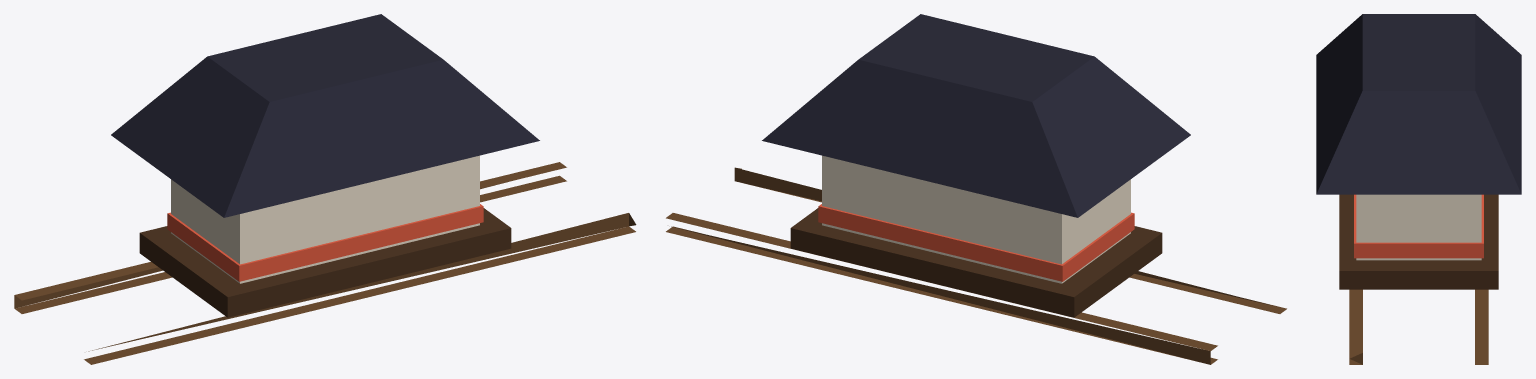
The model's file is prop_sangyeo_lod1.glb.
The picture shows the model from 3 angles, left to right: view 1: azimuth 30°, elevation 25°; view 2: azimuth 150°, elevation 25°; view 3: azimuth 270°, elevation 25°; orthographic projection. The views are drawn at different scales.
Parts seen in each view (by area): view 1: prop_sangyeo_lod1; view 2: prop_sangyeo_lod1; view 3: prop_sangyeo_lod1.
Boxes of the visible parts, bbox=[...] form: prop_sangyeo_lod1: bbox=[14, 14, 636, 364]; prop_sangyeo_lod1: bbox=[666, 14, 1286, 364]; prop_sangyeo_lod1: bbox=[1316, 14, 1521, 364].
Size of the model in its own units: 5 by 1.86 by 1.8.
